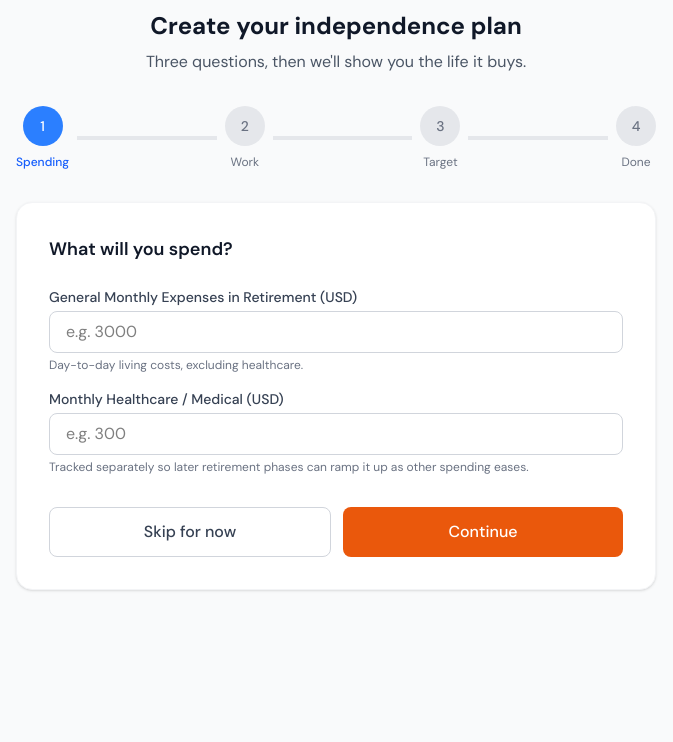
/independence/setup — guided plan wizard › creates the plan in order, phases it with force:false, and shows the payoff
Type "3000" into the number field named "monthly retirement expenses" at (336, 332), box [49,311,623,353]
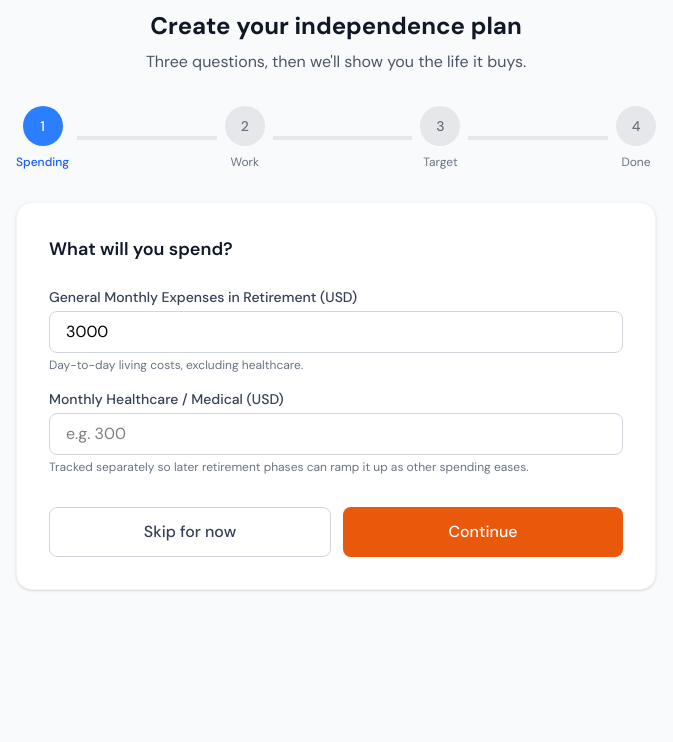
Click the button "Continue" at (483, 532), box [343,507,623,557]
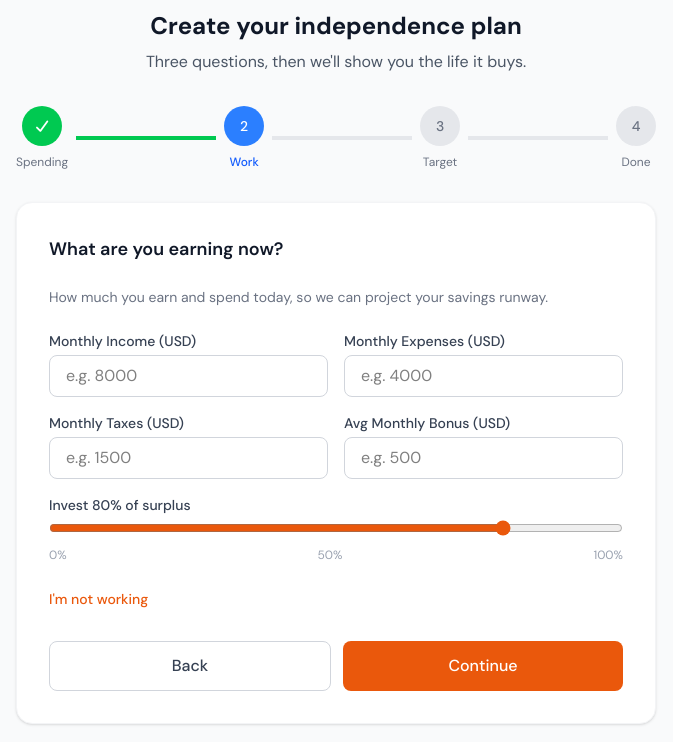
Result: the number field labelled "Monthly Income (USD)" is shown at [49,355,328,397]
Click the button "Continue" at (483, 666), box [343,641,623,691]
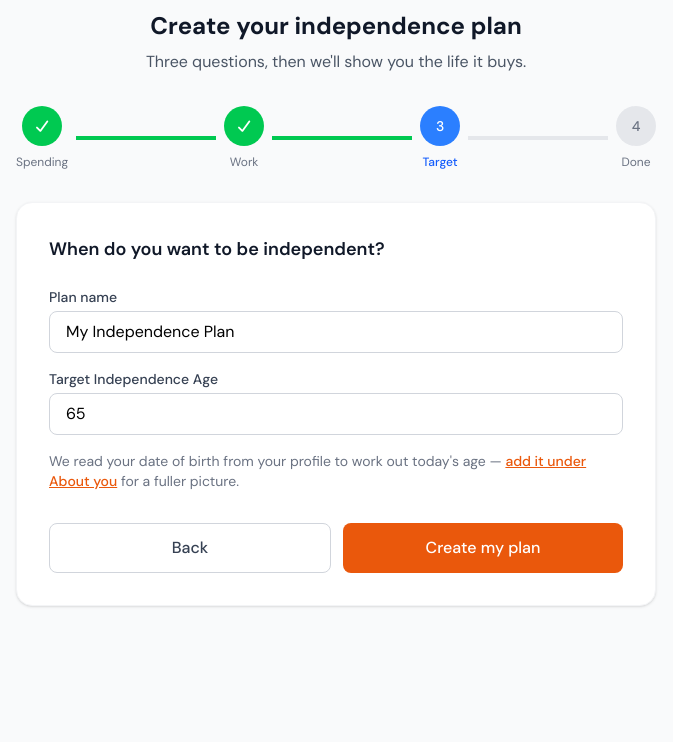
Result: the number field labelled "Target Independence Age" is shown
Replace the text in the number field labelled "Target Independence Age" with "60" at (336, 414), box [49,393,623,435]
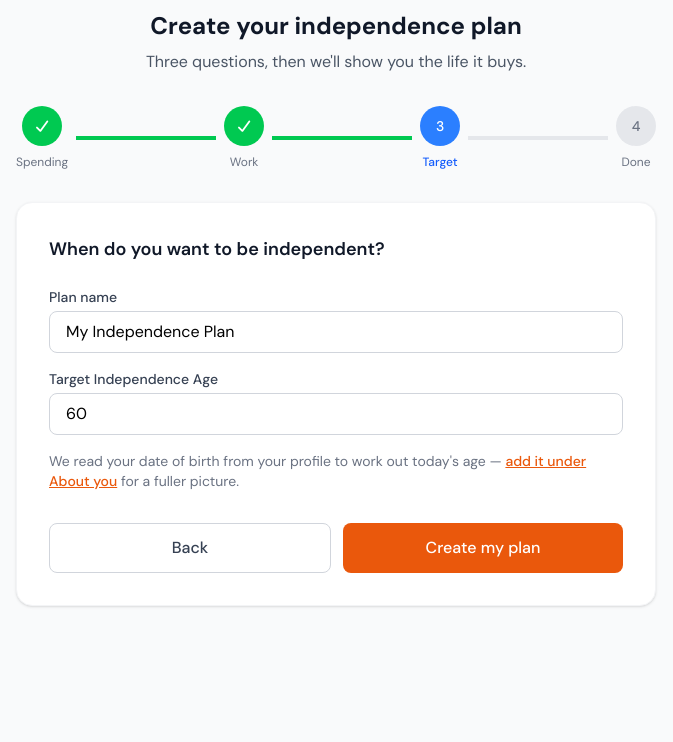
Click the button "Create my plan" at (483, 548), box [343,523,623,573]
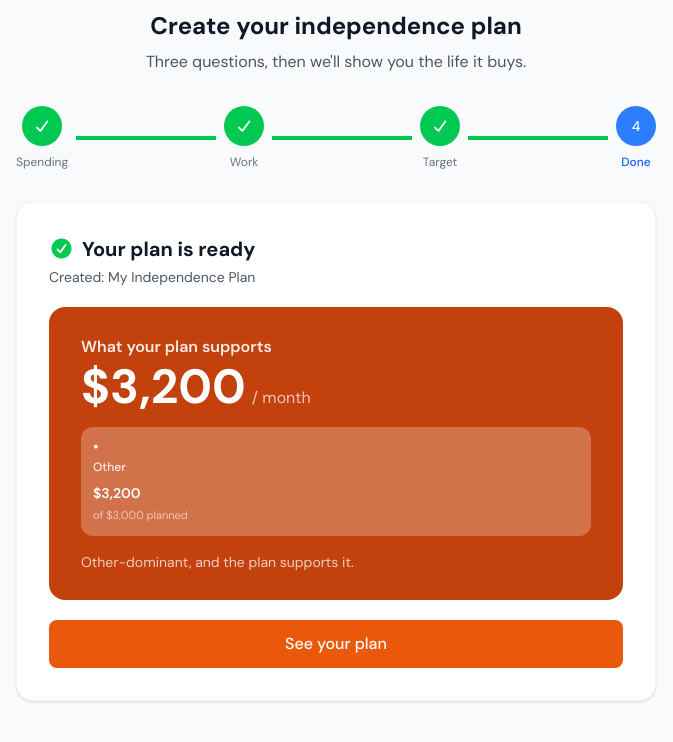
Result: the heading "Your plan is ready" is shown at [49,236,255,262]
Result: the text "Created: My Independence Plan" is shown at [49,268,255,286]
Result: the element that starts with "What your plan supports" is shown at [49,307,623,600]
